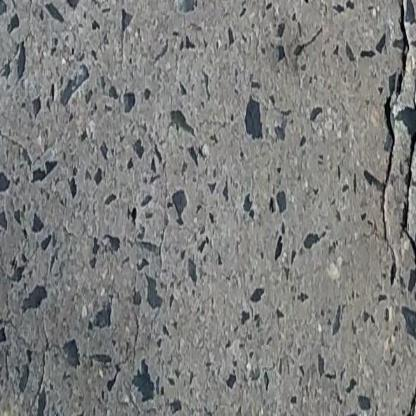Cracks: (378, 0, 414, 293), (399, 75, 416, 416)
